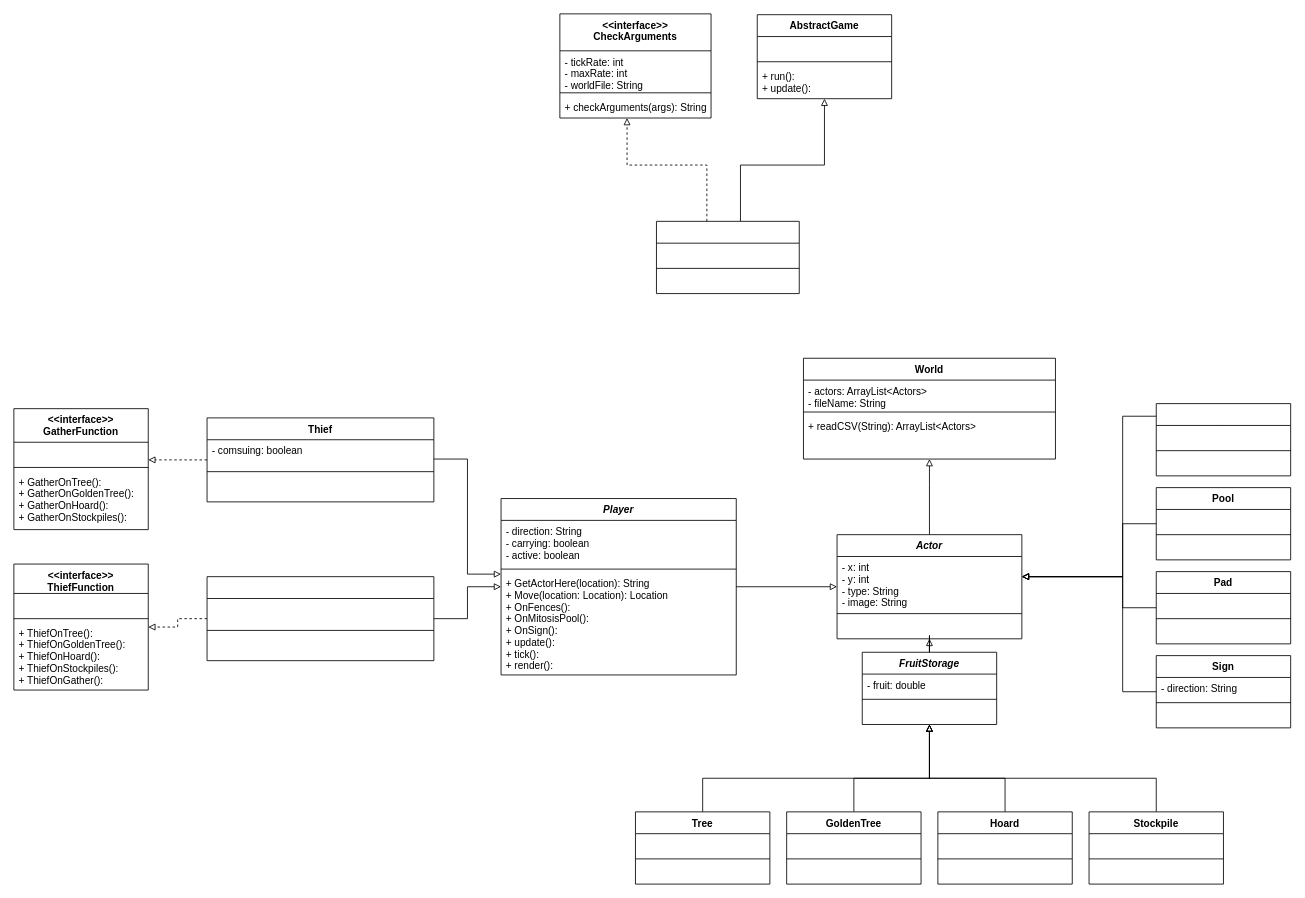
The diagram is 1305 pixels wide and 898 high, and some of its shapes have lost their labels. The centre of each missing label's shape, as x and y in pixels:
Fence: the point at 1223,439
Gatherer: the point at 320,618
ShadowLife: the point at 727,257
